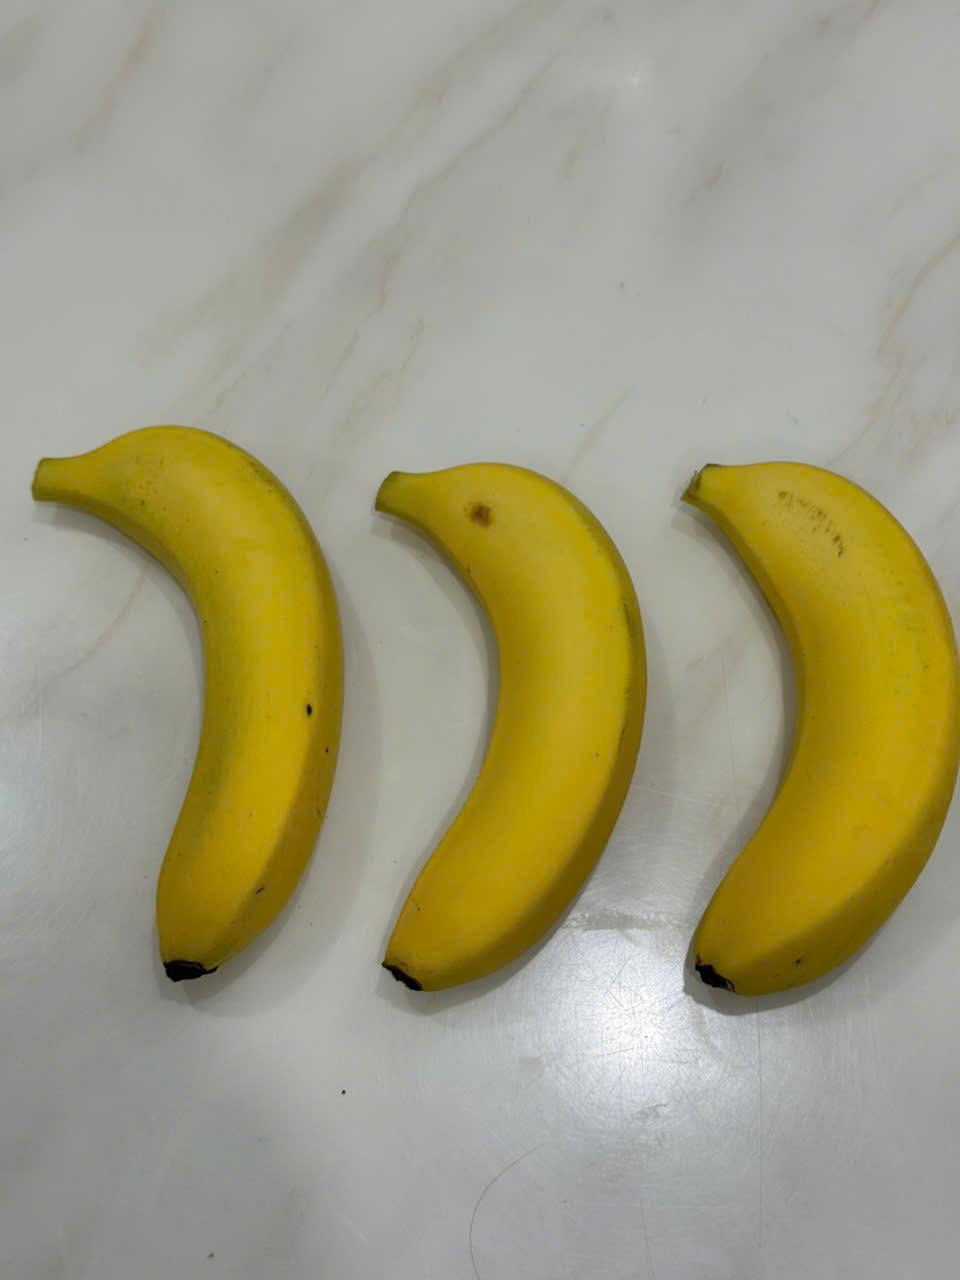banana: (10, 396, 359, 1003), (358, 438, 664, 1028), (672, 432, 960, 1022)
